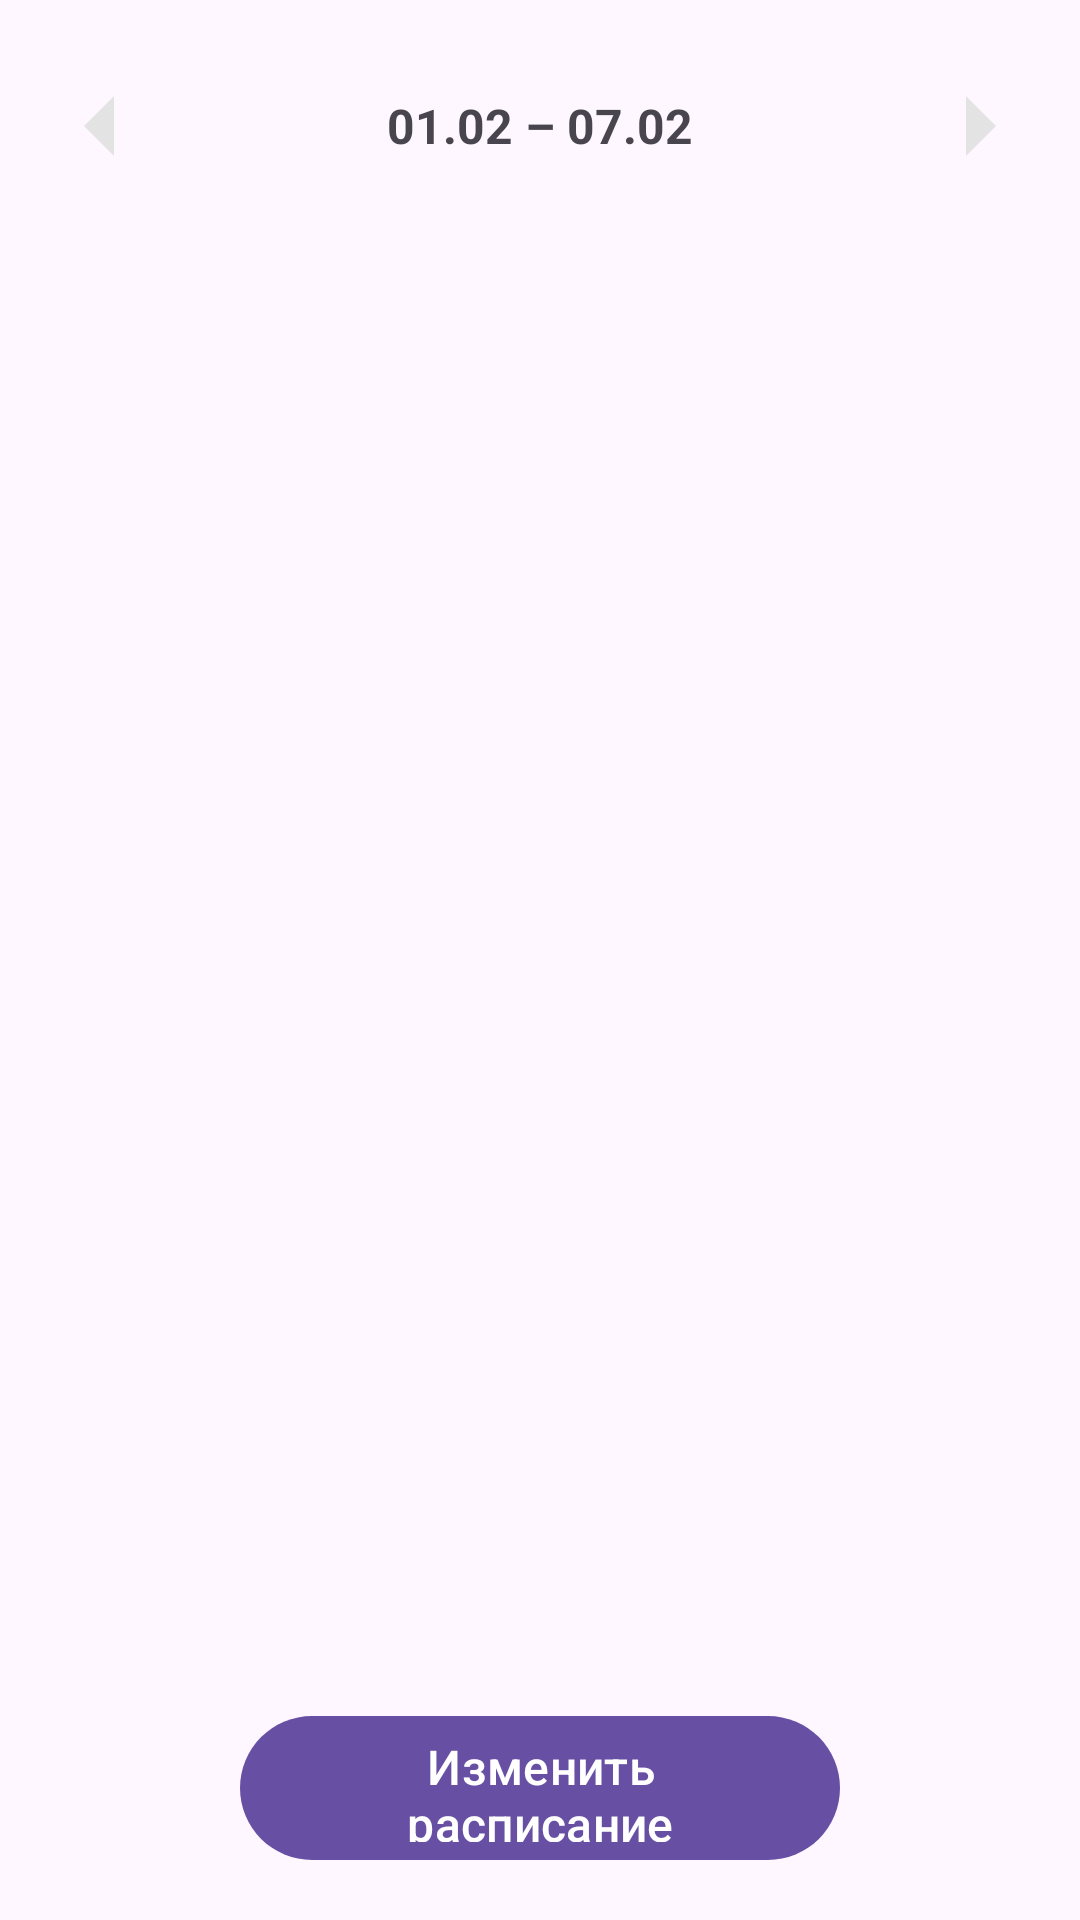

Icons on this 1080 × 1920 Android screen, each with the point to tap as [x,y]:
Предыдущая неделя: [99,126]
Следующая неделя: [980,126]
